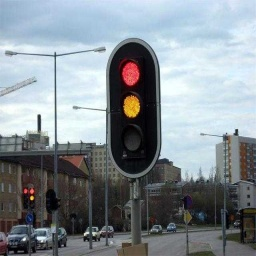traffic light: (106, 38, 162, 177), (22, 187, 36, 209)
